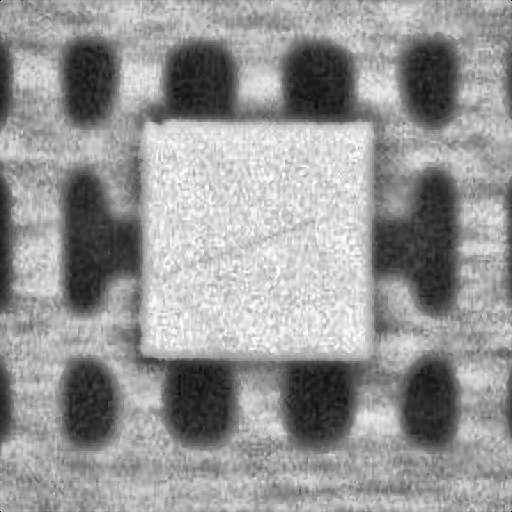DIE_CRACK: (244, 145, 467, 181)
